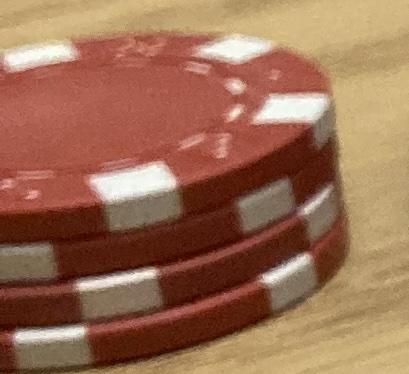Chip: (1, 1, 409, 374)
